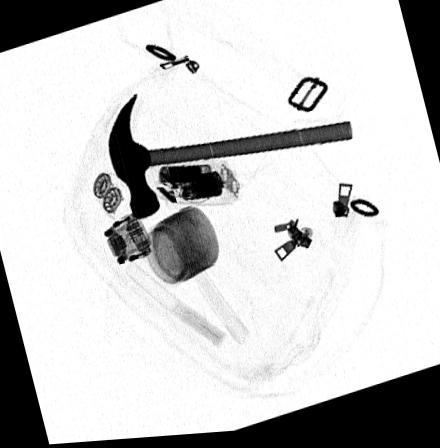Hammer: (107, 96, 351, 221)
